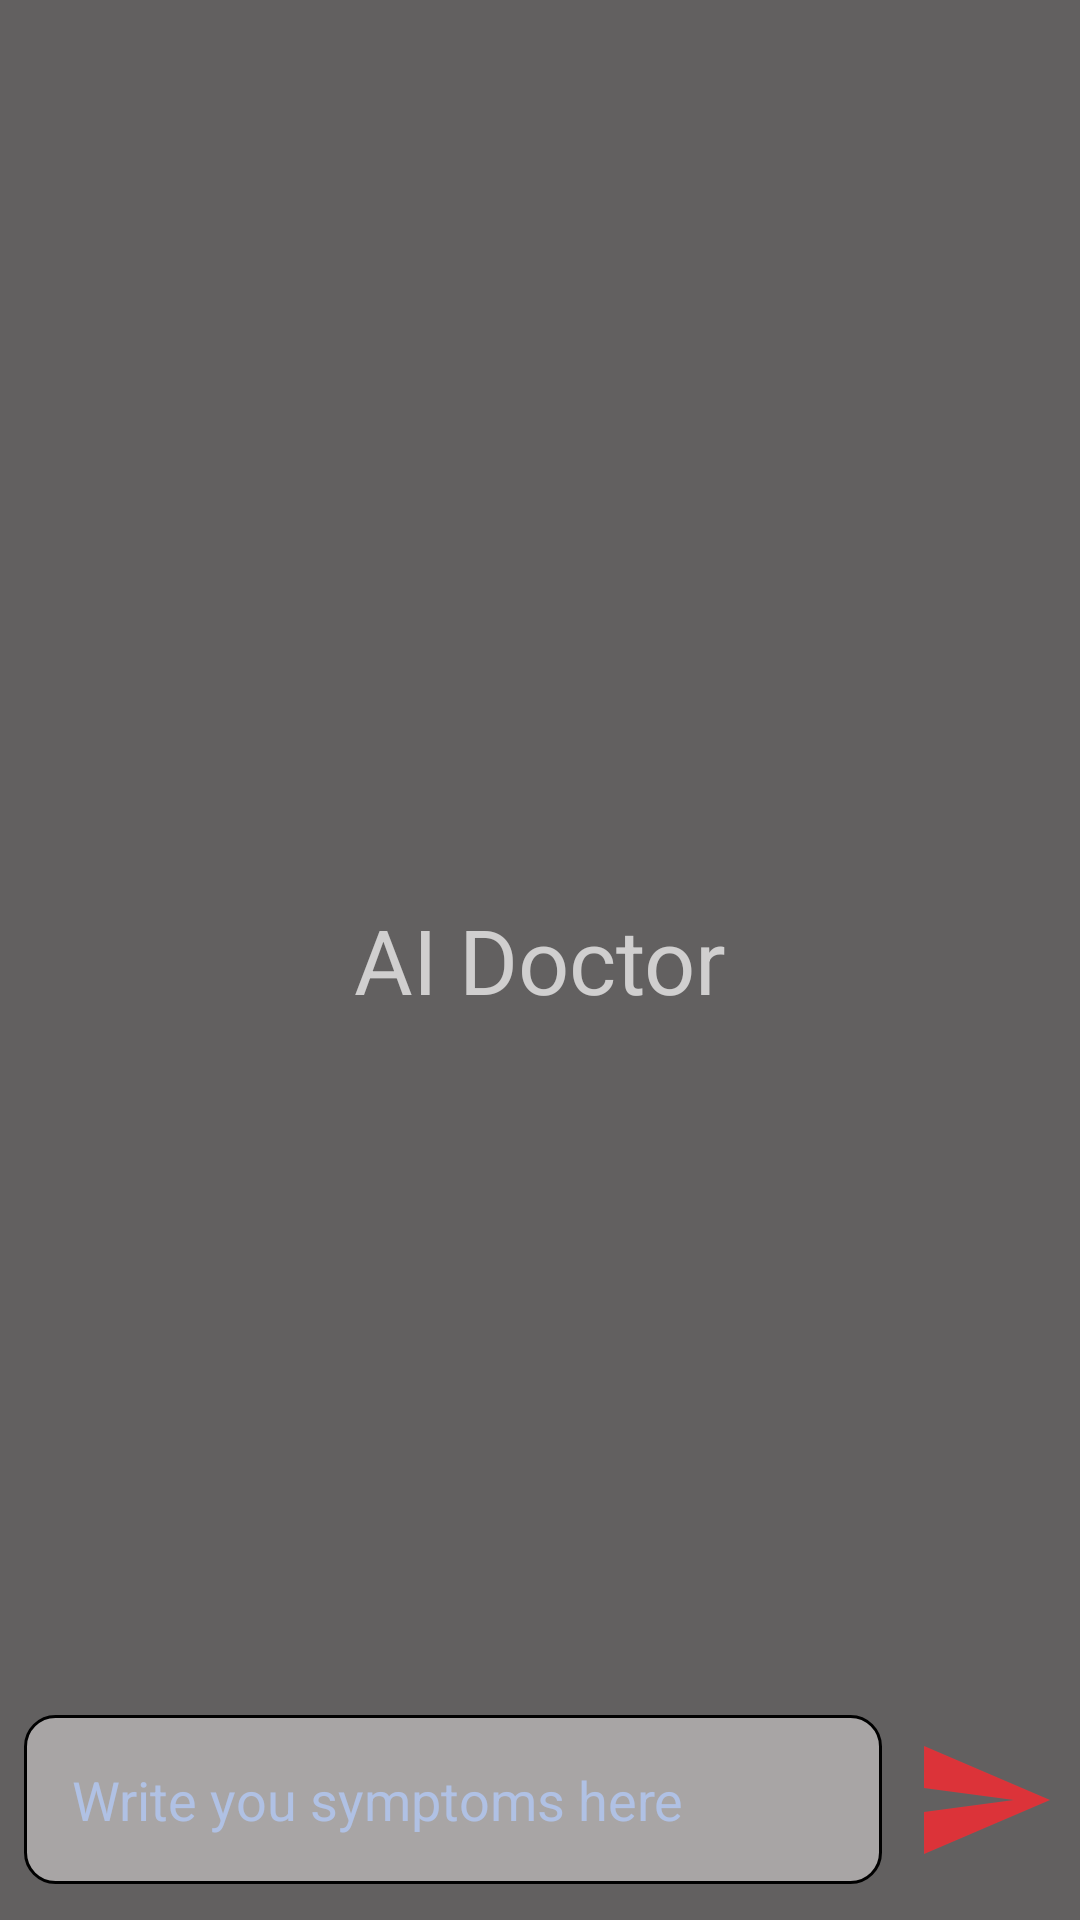

Point at icon controls on the screen. Image size 1080*1920, points as point (x, y).
send: point (987, 1800)
